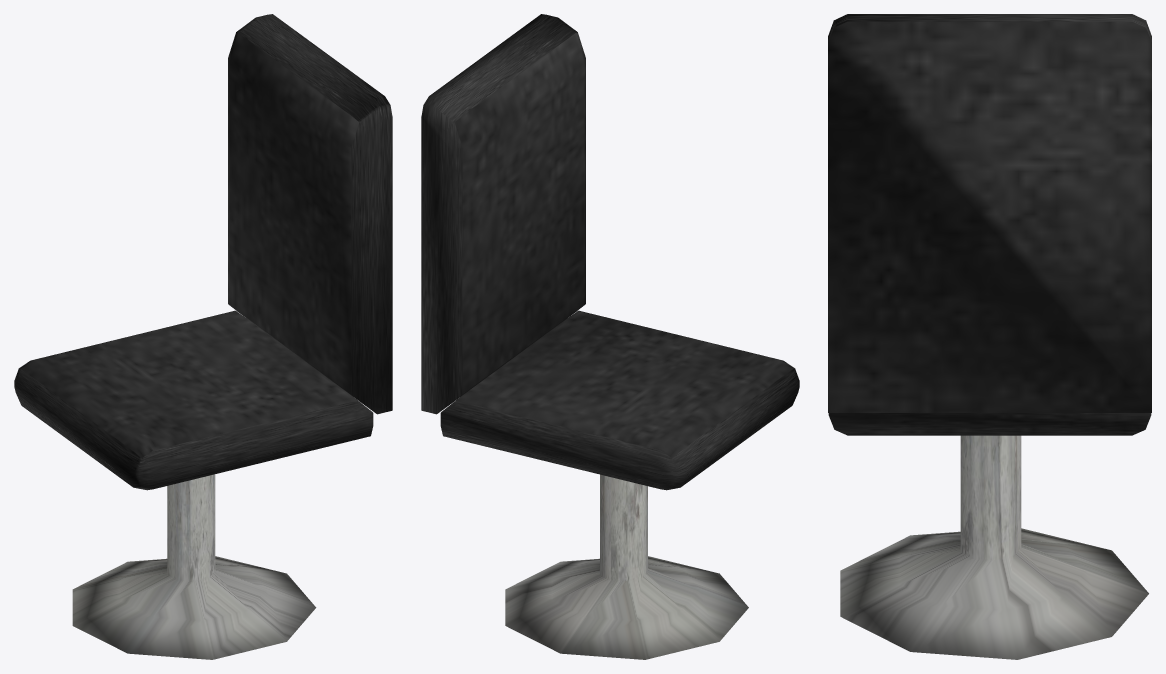
Rendered from officeChair.fbx.
3 renders of one model, left to right at view 1: azimuth 30°, elevation 25°; view 2: azimuth 150°, elevation 25°; view 3: azimuth 270°, elevation 25°, orthographic. The views are drawn at different scales.
Parts seen in each view (by area): view 1: Cube.001; view 2: Cube.001; view 3: Cube.001.
Part boxes in pixels (x1,y1,x2,y2): Cube.001: [14, 14, 392, 659]; Cube.001: [421, 14, 799, 659]; Cube.001: [828, 14, 1151, 659].
Bounding box in the file's own units: 80.01 × 154 × 68.83.
